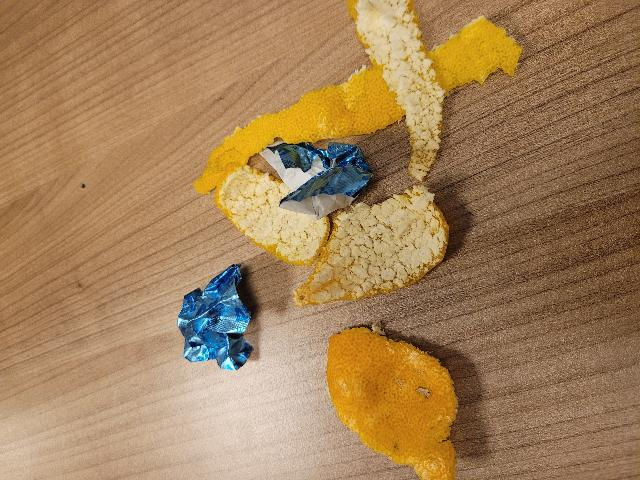Kagit: (175, 260, 263, 376), (260, 139, 374, 215)
Organik: (177, 4, 548, 144), (344, 0, 523, 182), (322, 316, 494, 480), (293, 204, 473, 318)
